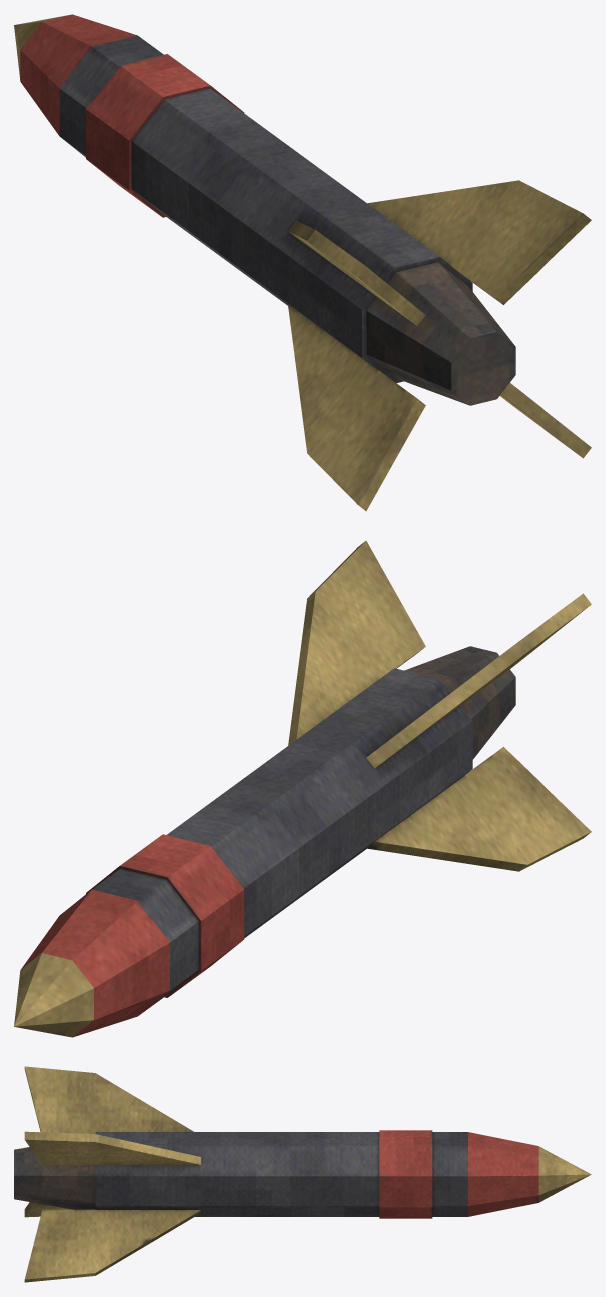
Rendered from SM_Rocket.fbx.
The picture shows the model from 3 angles, top to bottom: view 1: azimuth 30°, elevation 25°; view 2: azimuth 150°, elevation 25°; view 3: azimuth 270°, elevation 25°; orthographic projection. The views are drawn at different scales.
Visible parts, largest first — view 1: SM_Rocket; view 2: SM_Rocket; view 3: SM_Rocket.
Part boxes in pixels (x1,y1,x2,y2): SM_Rocket: (14, 14, 591, 511); SM_Rocket: (14, 540, 591, 1037); SM_Rocket: (14, 1066, 591, 1282).
Size of what is drawn, in the model's own units: 46.95 by 46.95 by 163.
Materials: 1 (1 with a texture image).
